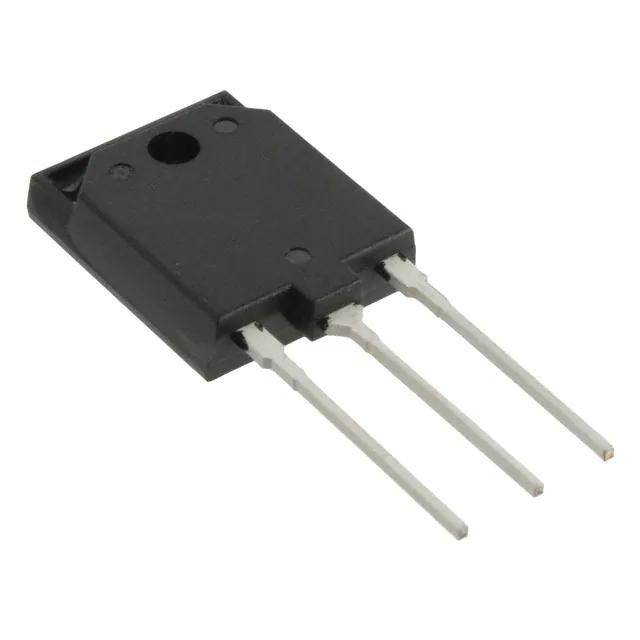Transistor: (29, 96, 610, 537)
